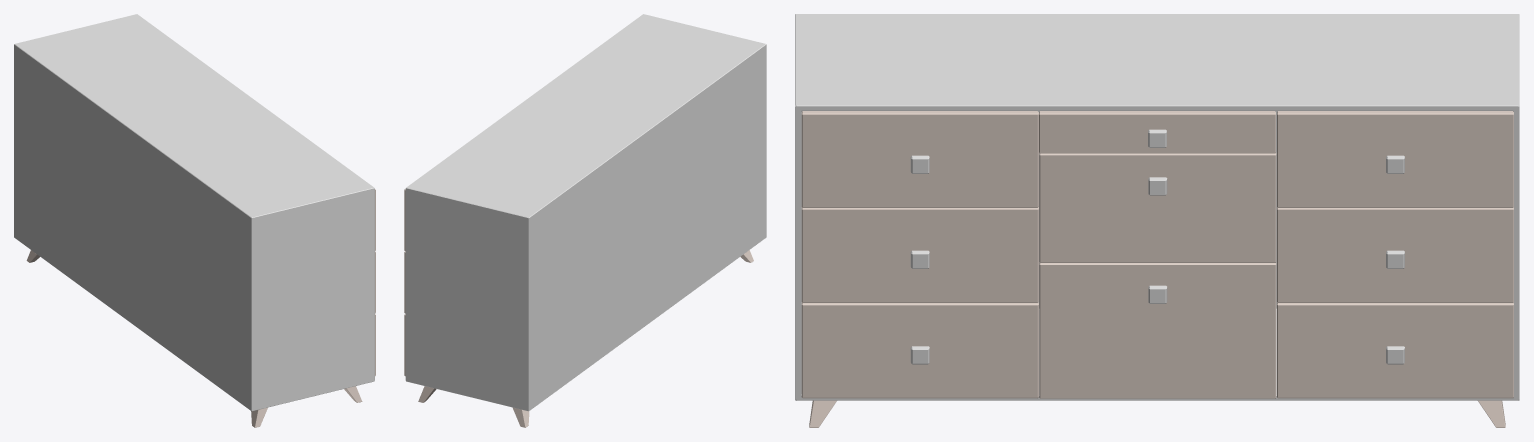
Rendered from Shelf.fbx.
3 renders of one model, left to right at view 1: azimuth 30°, elevation 25°; view 2: azimuth 150°, elevation 25°; view 3: azimuth 270°, elevation 25°, orthographic. The views are drawn at different scales.
Visible parts, largest first — view 1: Cube.023, Cube.033; view 2: Cube.023, Cube.033; view 3: Cube.023, Cube.030, Cube.031, Cube.025, Cube.027, Cube.026, Cube.029, Cube.024, Cube.028, Cube.032, Cube.033.
Boxes of the visible parts, x1,y1,x2,y2 form: Cube.023: [14, 14, 374, 411]; Cube.033: [26, 250, 362, 427]; Cube.023: [405, 14, 766, 411]; Cube.033: [418, 250, 753, 427]; Cube.023: [795, 14, 1519, 400]; Cube.030: [1039, 262, 1276, 398]; Cube.031: [1039, 153, 1276, 262]; Cube.025: [801, 111, 1038, 207]; Cube.027: [1277, 111, 1513, 207]; Cube.026: [801, 302, 1038, 398]; Cube.029: [1277, 302, 1513, 398]; Cube.024: [801, 207, 1038, 302]; Cube.028: [1277, 207, 1513, 302]; Cube.032: [1039, 111, 1275, 153]; Cube.033: [809, 400, 1505, 427].
Bounding box in the file's own units: 0.6505 × 1 × 2.
